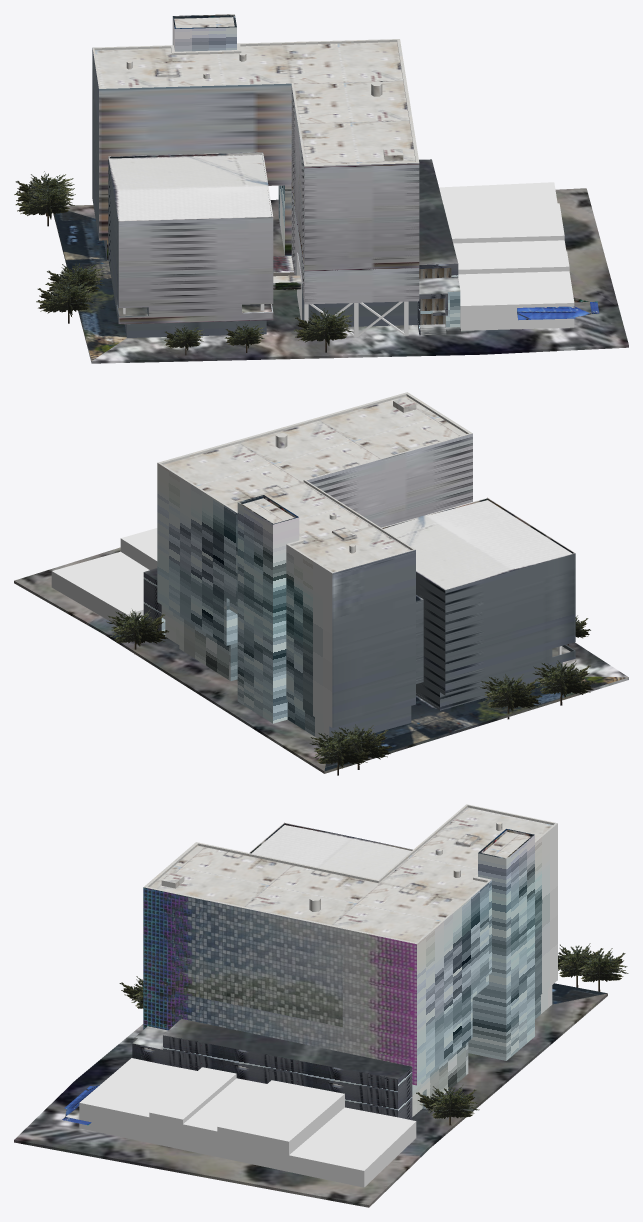
The model's file is Edificio+vida+(Cali).fbx.
3 views of the same model, one above another, from view 1: azimuth 30°, elevation 25°; view 2: azimuth 150°, elevation 25°; view 3: azimuth 270°, elevation 25° (orthographic). The views are drawn at different scales.
Parts seen in each view (by area): view 1: Model, Group5, Group9, Group6, Group4, Group7, Group11, Group10; view 2: Model, Group4, Group5, Group8, Group7, Group6; view 3: Model, Group8, Group7, Group6.
Boxes of the visible parts, <box> form: Model: <box>53,14,628,363</box>; Group5: <box>36,279,96,323</box>; Group9: <box>294,308,353,352</box>; Group6: <box>15,182,75,226</box>; Group4: <box>45,262,105,293</box>; Group7: <box>14,171,74,216</box>; Group11: <box>164,325,204,355</box>; Group10: <box>224,323,265,352</box>; Model: <box>14,392,628,773</box>; Group4: <box>480,674,542,719</box>; Group5: <box>532,660,594,705</box>; Group8: <box>106,609,168,654</box>; Group7: <box>309,730,371,775</box>; Group6: <box>331,724,392,769</box>; Model: <box>14,804,607,1207</box>; Group8: <box>416,1084,479,1125</box>; Group7: <box>567,948,628,991</box>; Group6: <box>558,943,603,987</box>.
Size of the model in its own units: 143 by 49.01 by 132.
